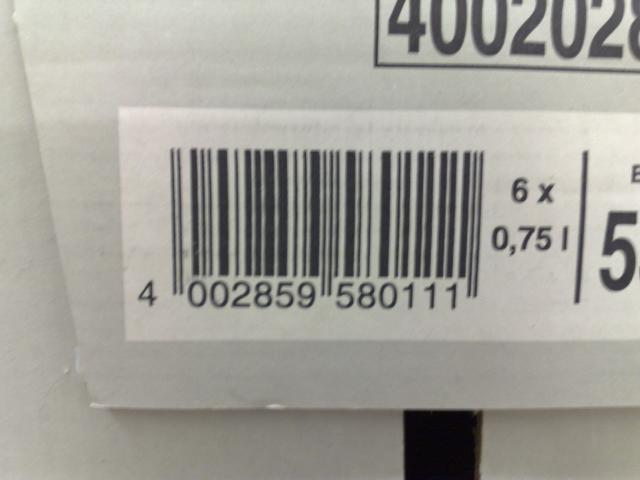Barkod: (167, 145, 483, 279)
